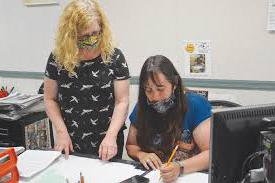mask_weared_incorrect: (144, 83, 169, 109)
with_mask: (79, 27, 100, 48)
